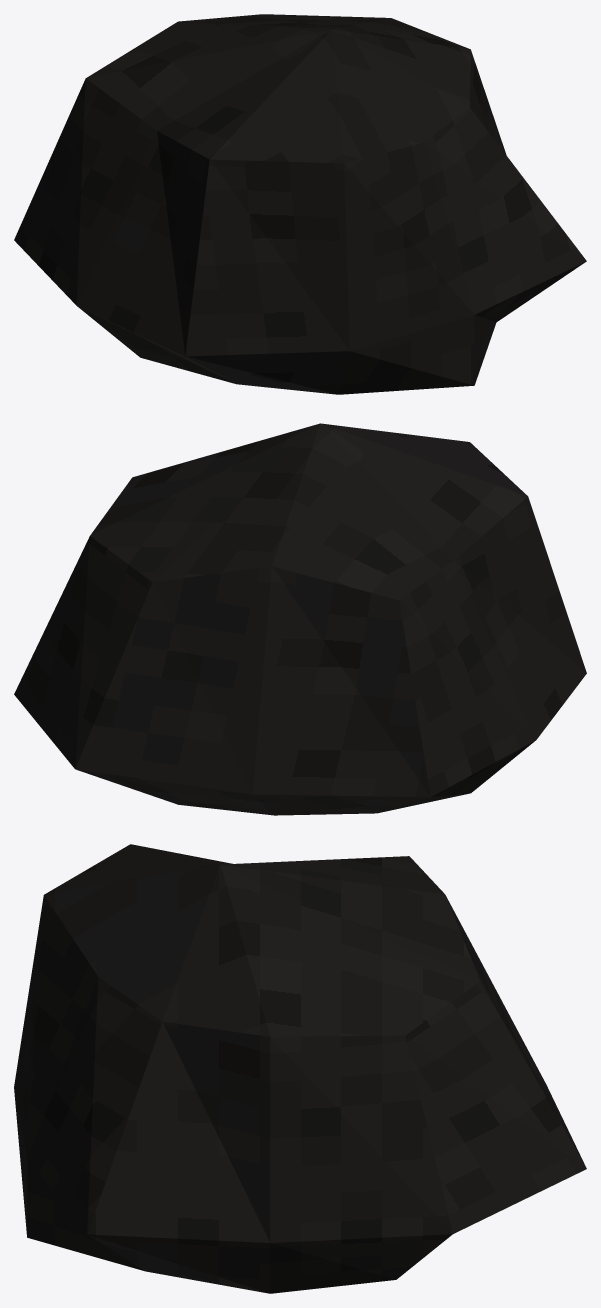
The model's file is mediana.glb.
3 renders of one model, top to bottom at view 1: azimuth 30°, elevation 25°; view 2: azimuth 150°, elevation 25°; view 3: azimuth 270°, elevation 25°, orthographic. The views are drawn at different scales.
Parts seen in each view (by area): view 1: roca; view 2: roca; view 3: roca.
Boxes of the visible parts, left/top/right/bottom form: roca: left=14, top=14, right=586, bottom=394; roca: left=14, top=423, right=586, bottom=815; roca: left=14, top=844, right=586, bottom=1293.
Size of the model in its own units: 1.5 by 1 by 1.5.
Materials: 1 (1 with a texture image).
